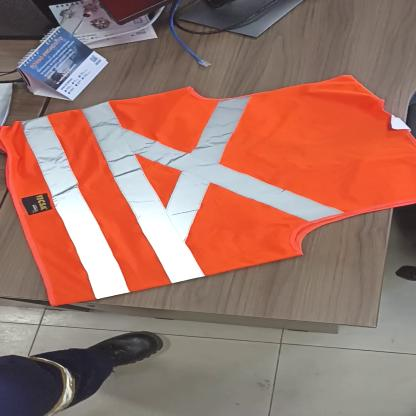colete: (0, 76, 416, 310)
